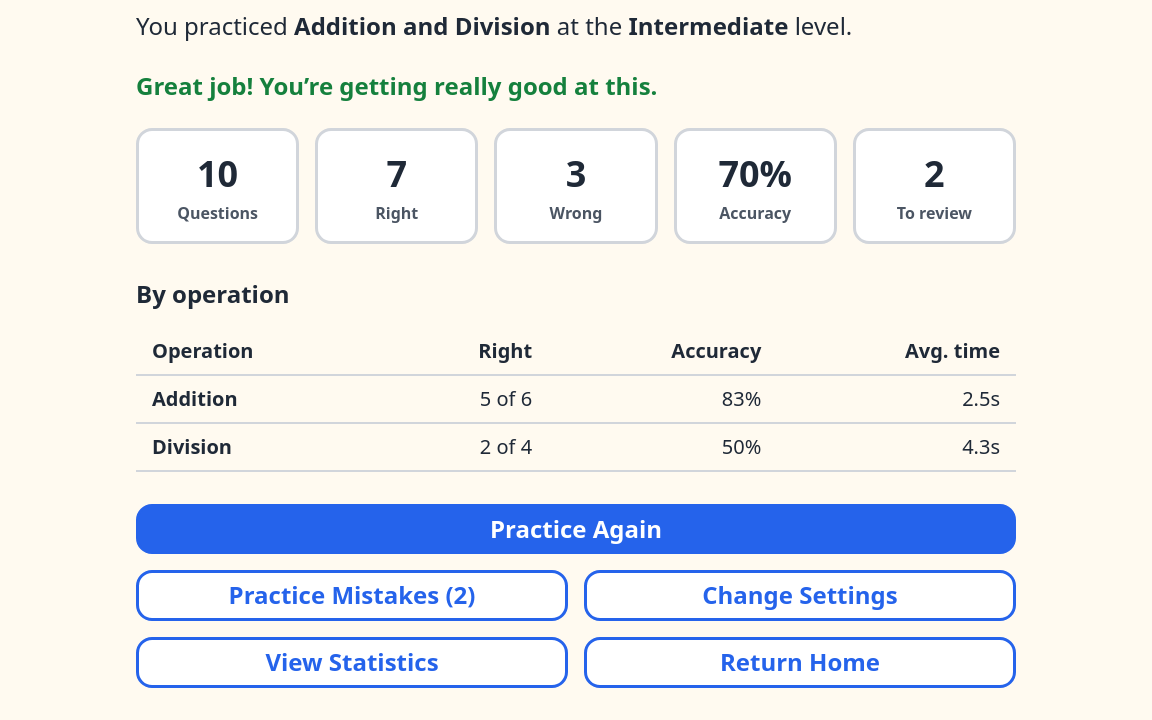
PracticeSummaryPage › Change Settings opens setup with this session’s choices already picked
(page scrolled)
Step 1. Click the link "Change Settings" → [800, 596], box 584,570 -> 1016,621
(page scrolled)
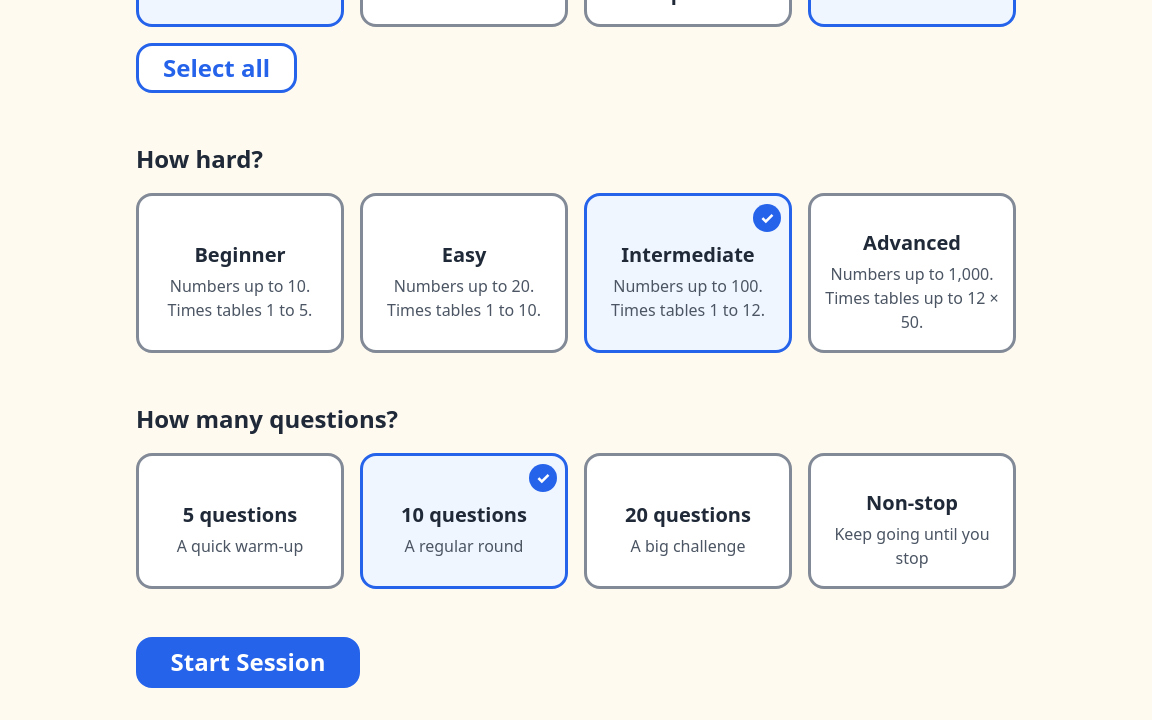
Expected: the radio button labelled "Intermediate" is checked, 584,193 -> 792,353
Expected: the radio button labelled "10 questions" is checked, 360,453 -> 568,589
